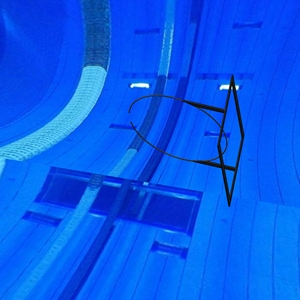circle: (127, 73, 246, 207)
